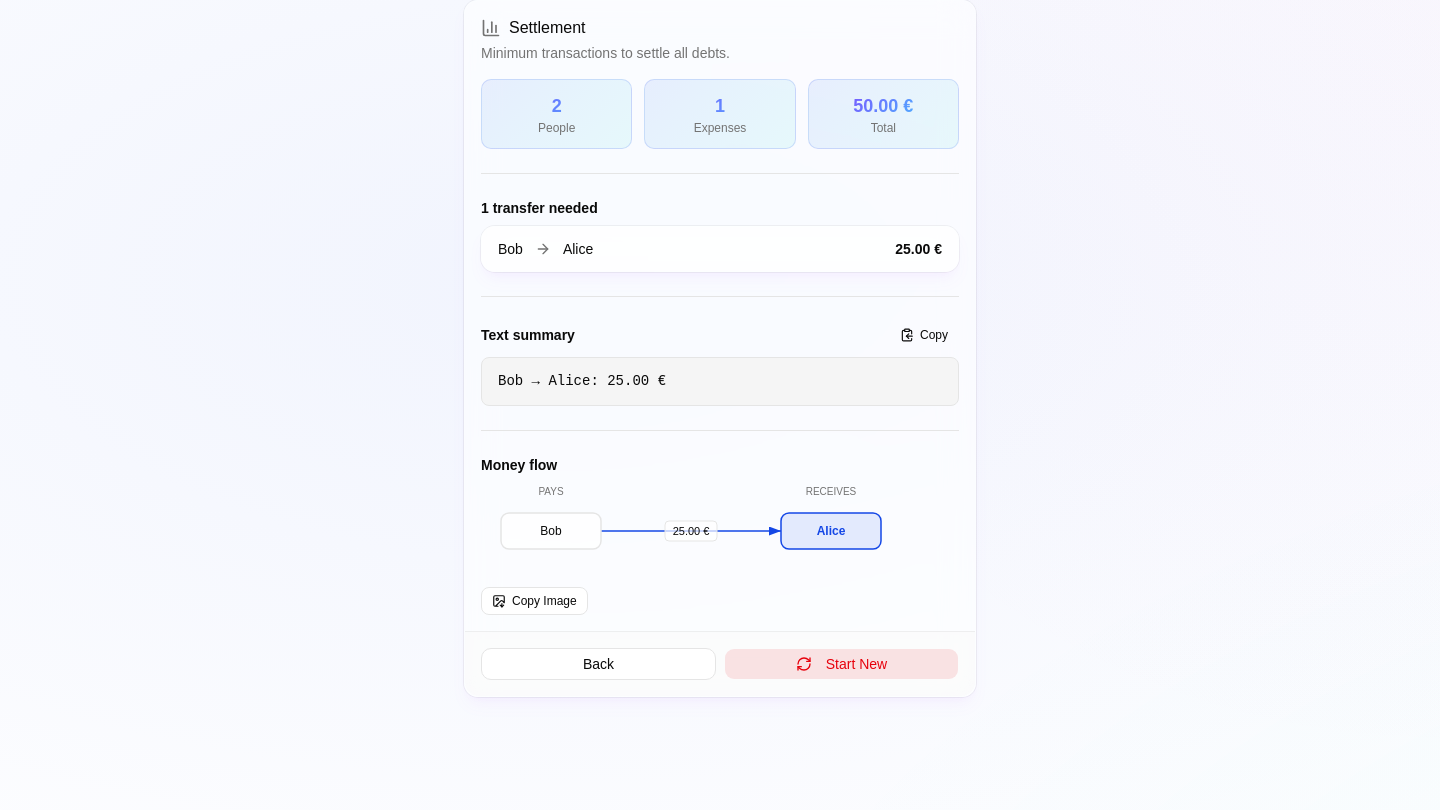
Scenario: SettlementStep › Start New confirmation dialog › opens confirm dialog when Start New is clicked
Click the button "Start New" at (842, 664), box [724,648,959,680]
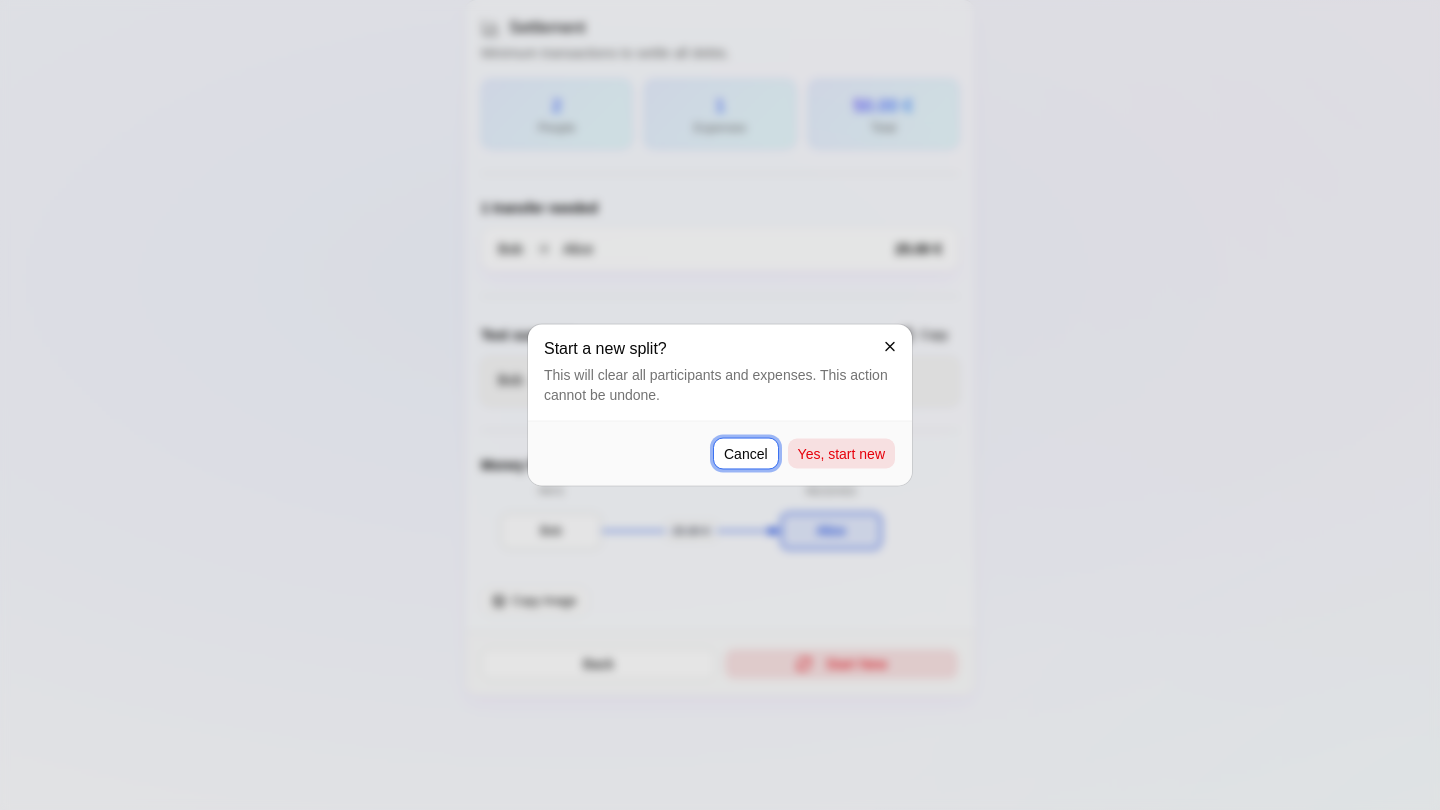
Expected: the heading "Start a new split?" is shown, [544,340,667,356]
